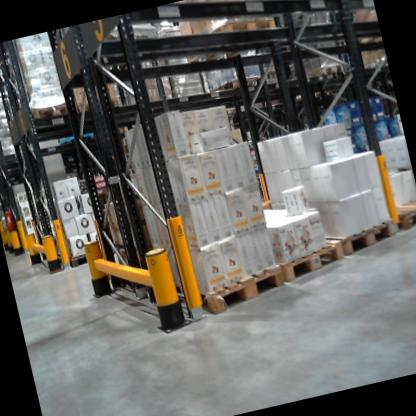pallet: (161, 246, 292, 326), (184, 12, 285, 76), (258, 225, 350, 293), (298, 211, 400, 267), (44, 237, 99, 275), (24, 101, 73, 131), (384, 193, 416, 234), (298, 61, 348, 85), (221, 74, 268, 99)
